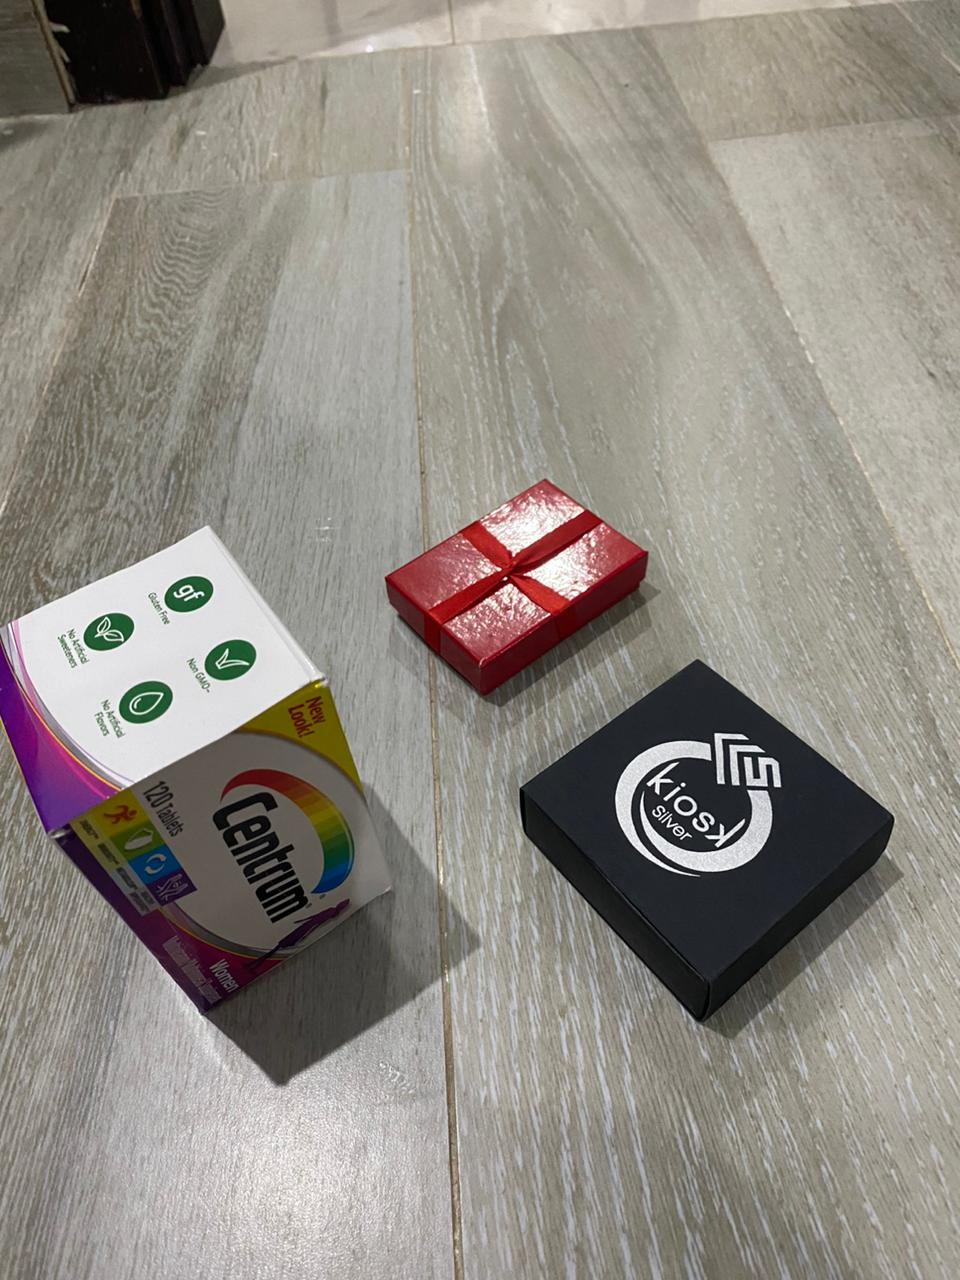Black Box: (390, 476, 651, 694)
Centrum: (1, 524, 402, 1023)
Red Box: (512, 656, 902, 1030)
